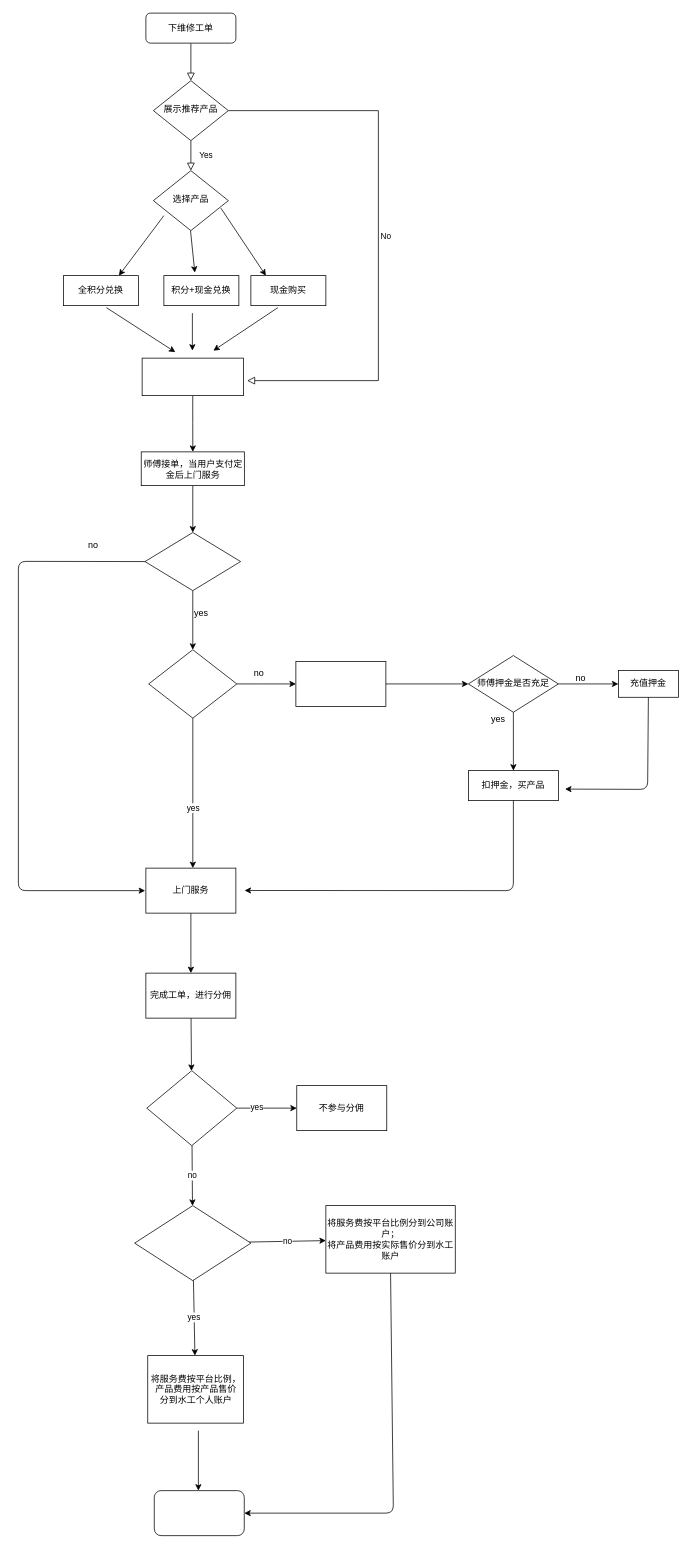
The diagram is 692 pixels wide and 1549 high, and some of its shapes have lost their labels. The centre of each missing label's shape, as x and y in pixels:
"去慧泉仓库购买对应的产品" goes at (x=340, y=683).
"完成" goes at (x=199, y=1513).
"师傅手上是否有 对应的产品" goes at (x=192, y=683).
"是否为个人水工" goes at (x=192, y=1243).
"是否为慧泉内部员工" goes at (x=191, y=1108).
"生成工单" goes at (x=192, y=376).
"用户是否有选择 推荐产品" goes at (x=192, y=561).
